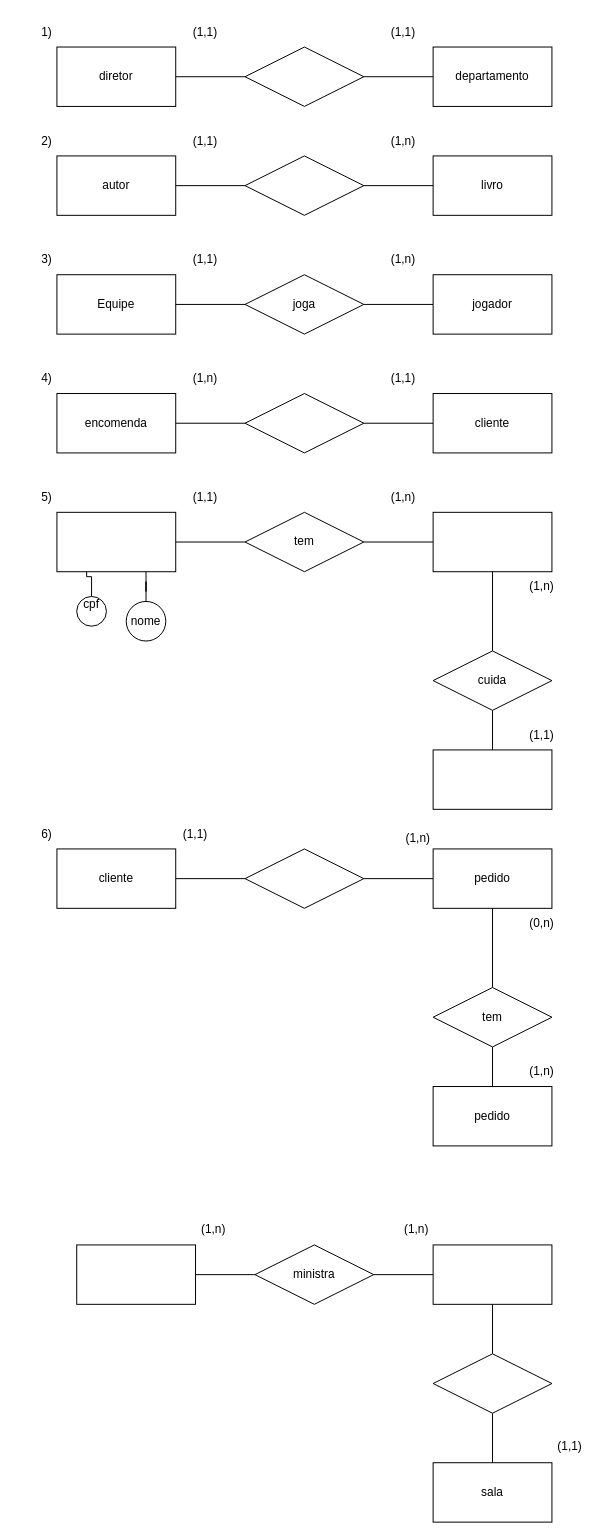
The diagram is 608 pixels wide and 1539 high, and some of its shapes have lost their labels. The shapes that lost their labels are listed below. From the top down, each one's centre as x and y in pixels, then its label:
the point at 304,76: gerencia
the point at 304,185: escreve
the point at 304,423: possui
the point at 116,541: Mãe
the point at 492,541: bebê
the point at 492,779: Médico
the point at 304,878: realiza
the point at 136,1274: Professores
the point at 492,1274: turmas
the point at 492,1383: ensaida
